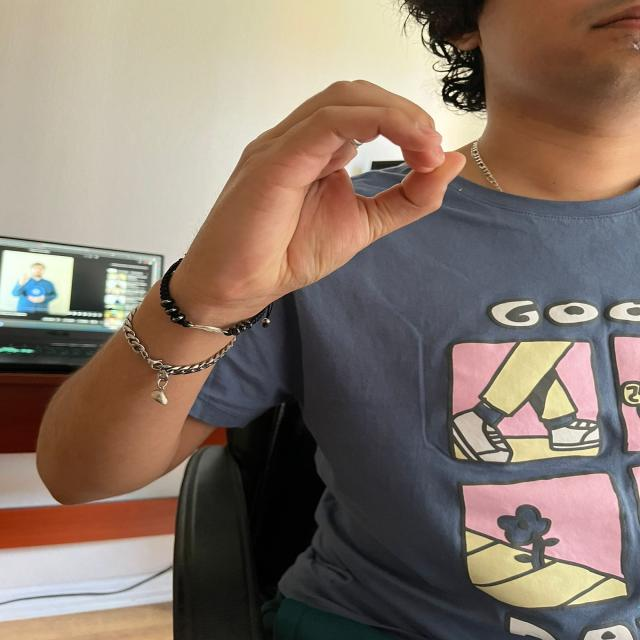O: (190, 73, 470, 294)
